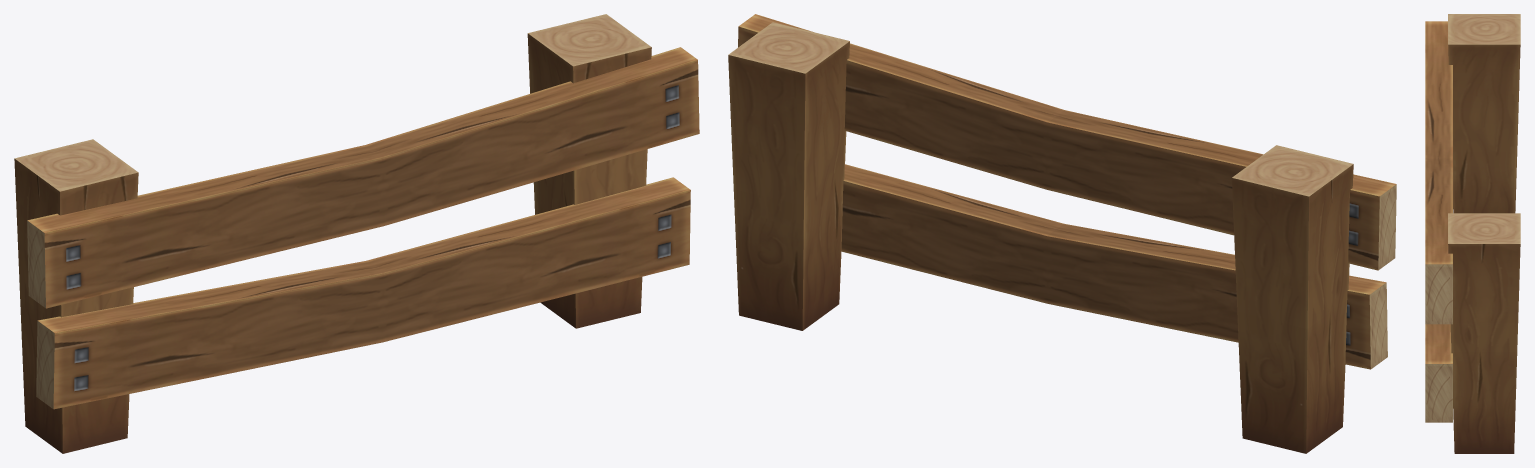
Rendered from wooden_fence_09.fbx.
3 renders of one model, left to right at view 1: azimuth 30°, elevation 25°; view 2: azimuth 150°, elevation 25°; view 3: azimuth 270°, elevation 25°, orthographic. The views are drawn at different scales.
Parts seen in each view (by area): view 1: wooden_fence_09:Mesh; view 2: wooden_fence_09:Mesh; view 3: wooden_fence_09:Mesh.
Boxes of the visible parts, box(x1,y1,x2,y2) form: wooden_fence_09:Mesh: box(14, 14, 699, 453); wooden_fence_09:Mesh: box(728, 14, 1396, 453); wooden_fence_09:Mesh: box(1425, 14, 1520, 453).
Size of the model in its own units: 6.92 by 2.7 by 1.09.
